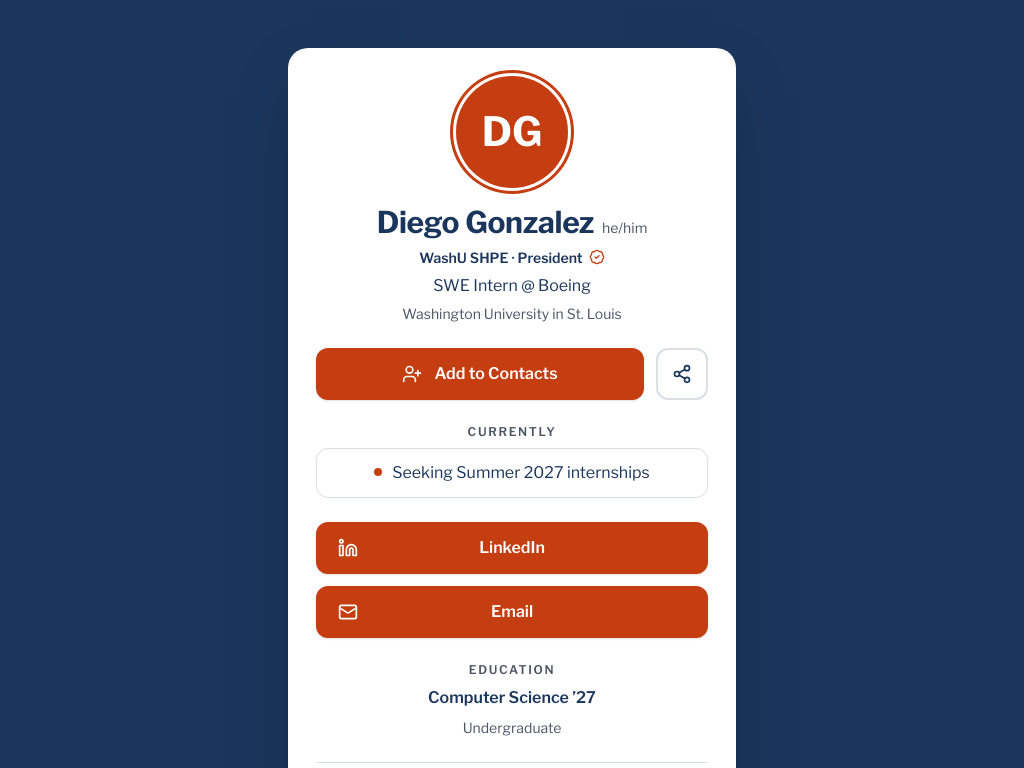
PublicCard: sharing › confirms a copied link
The image size is (1024, 768).
What coordinates should you click on to do the following:
click the button named "Share"
I would click on:
 (682, 374)
Its box is [656, 348, 708, 400].
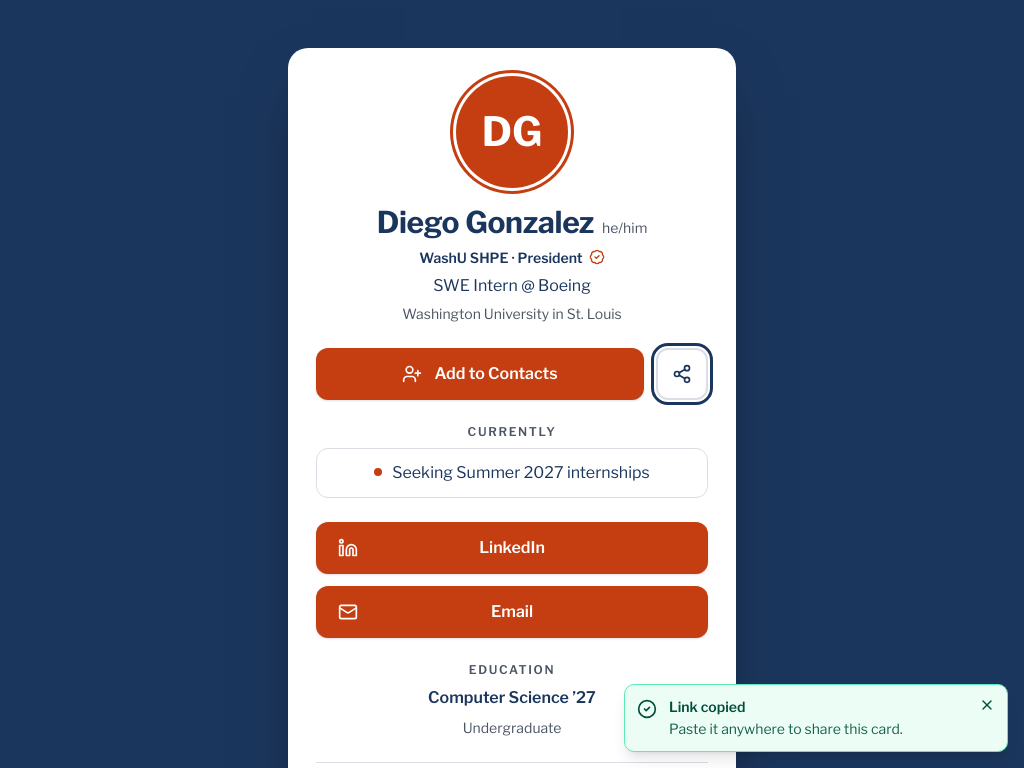
Expected: the text "Link copied" is shown, [669, 698, 745, 715]
